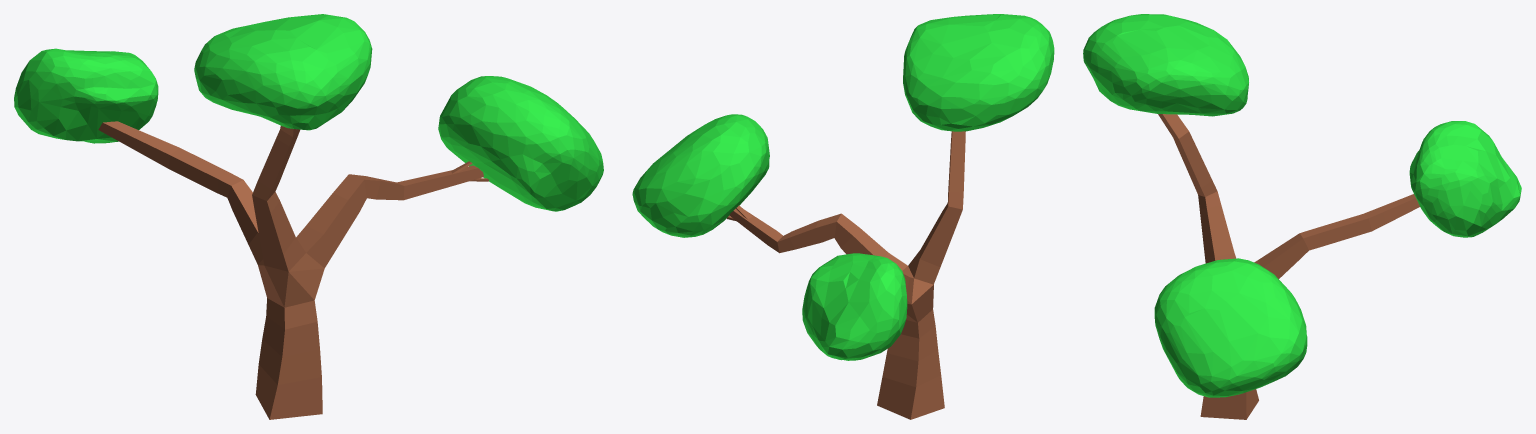
File: Tree_3.fbx
The picture shows the model from 3 angles, left to right: view 1: azimuth 30°, elevation 25°; view 2: azimuth 150°, elevation 25°; view 3: azimuth 270°, elevation 25°; orthographic projection. The views are drawn at different scales.
Parts seen in each view (by area): view 1: Icosphere.001; view 2: Icosphere.001; view 3: Icosphere.001.
Boxes of the visible parts, x1,y1,x2,y2 form: Icosphere.001: [14, 14, 603, 419]; Icosphere.001: [632, 14, 1054, 419]; Icosphere.001: [1083, 14, 1521, 419].
Size of the model in its own units: 665 by 609 by 670.
